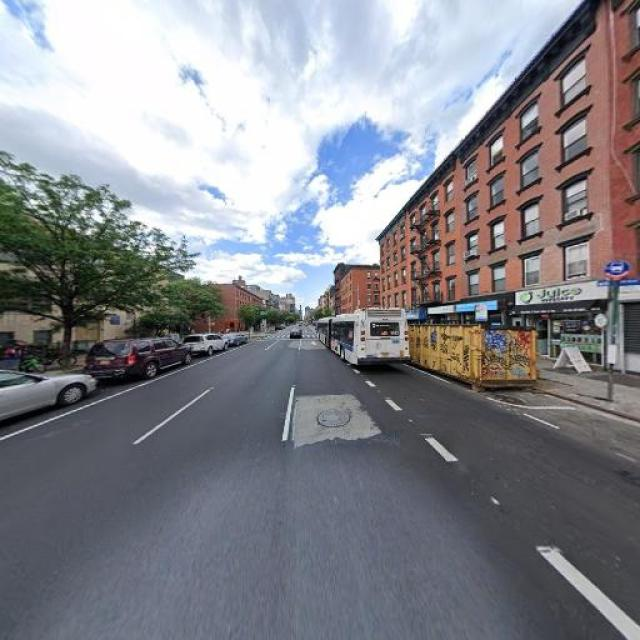Building: (457, 1, 604, 365), (1, 205, 165, 360), (612, 1, 640, 372), (410, 155, 454, 342), (383, 208, 407, 335)
